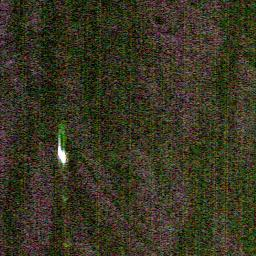Ship: (55, 142, 70, 167)
